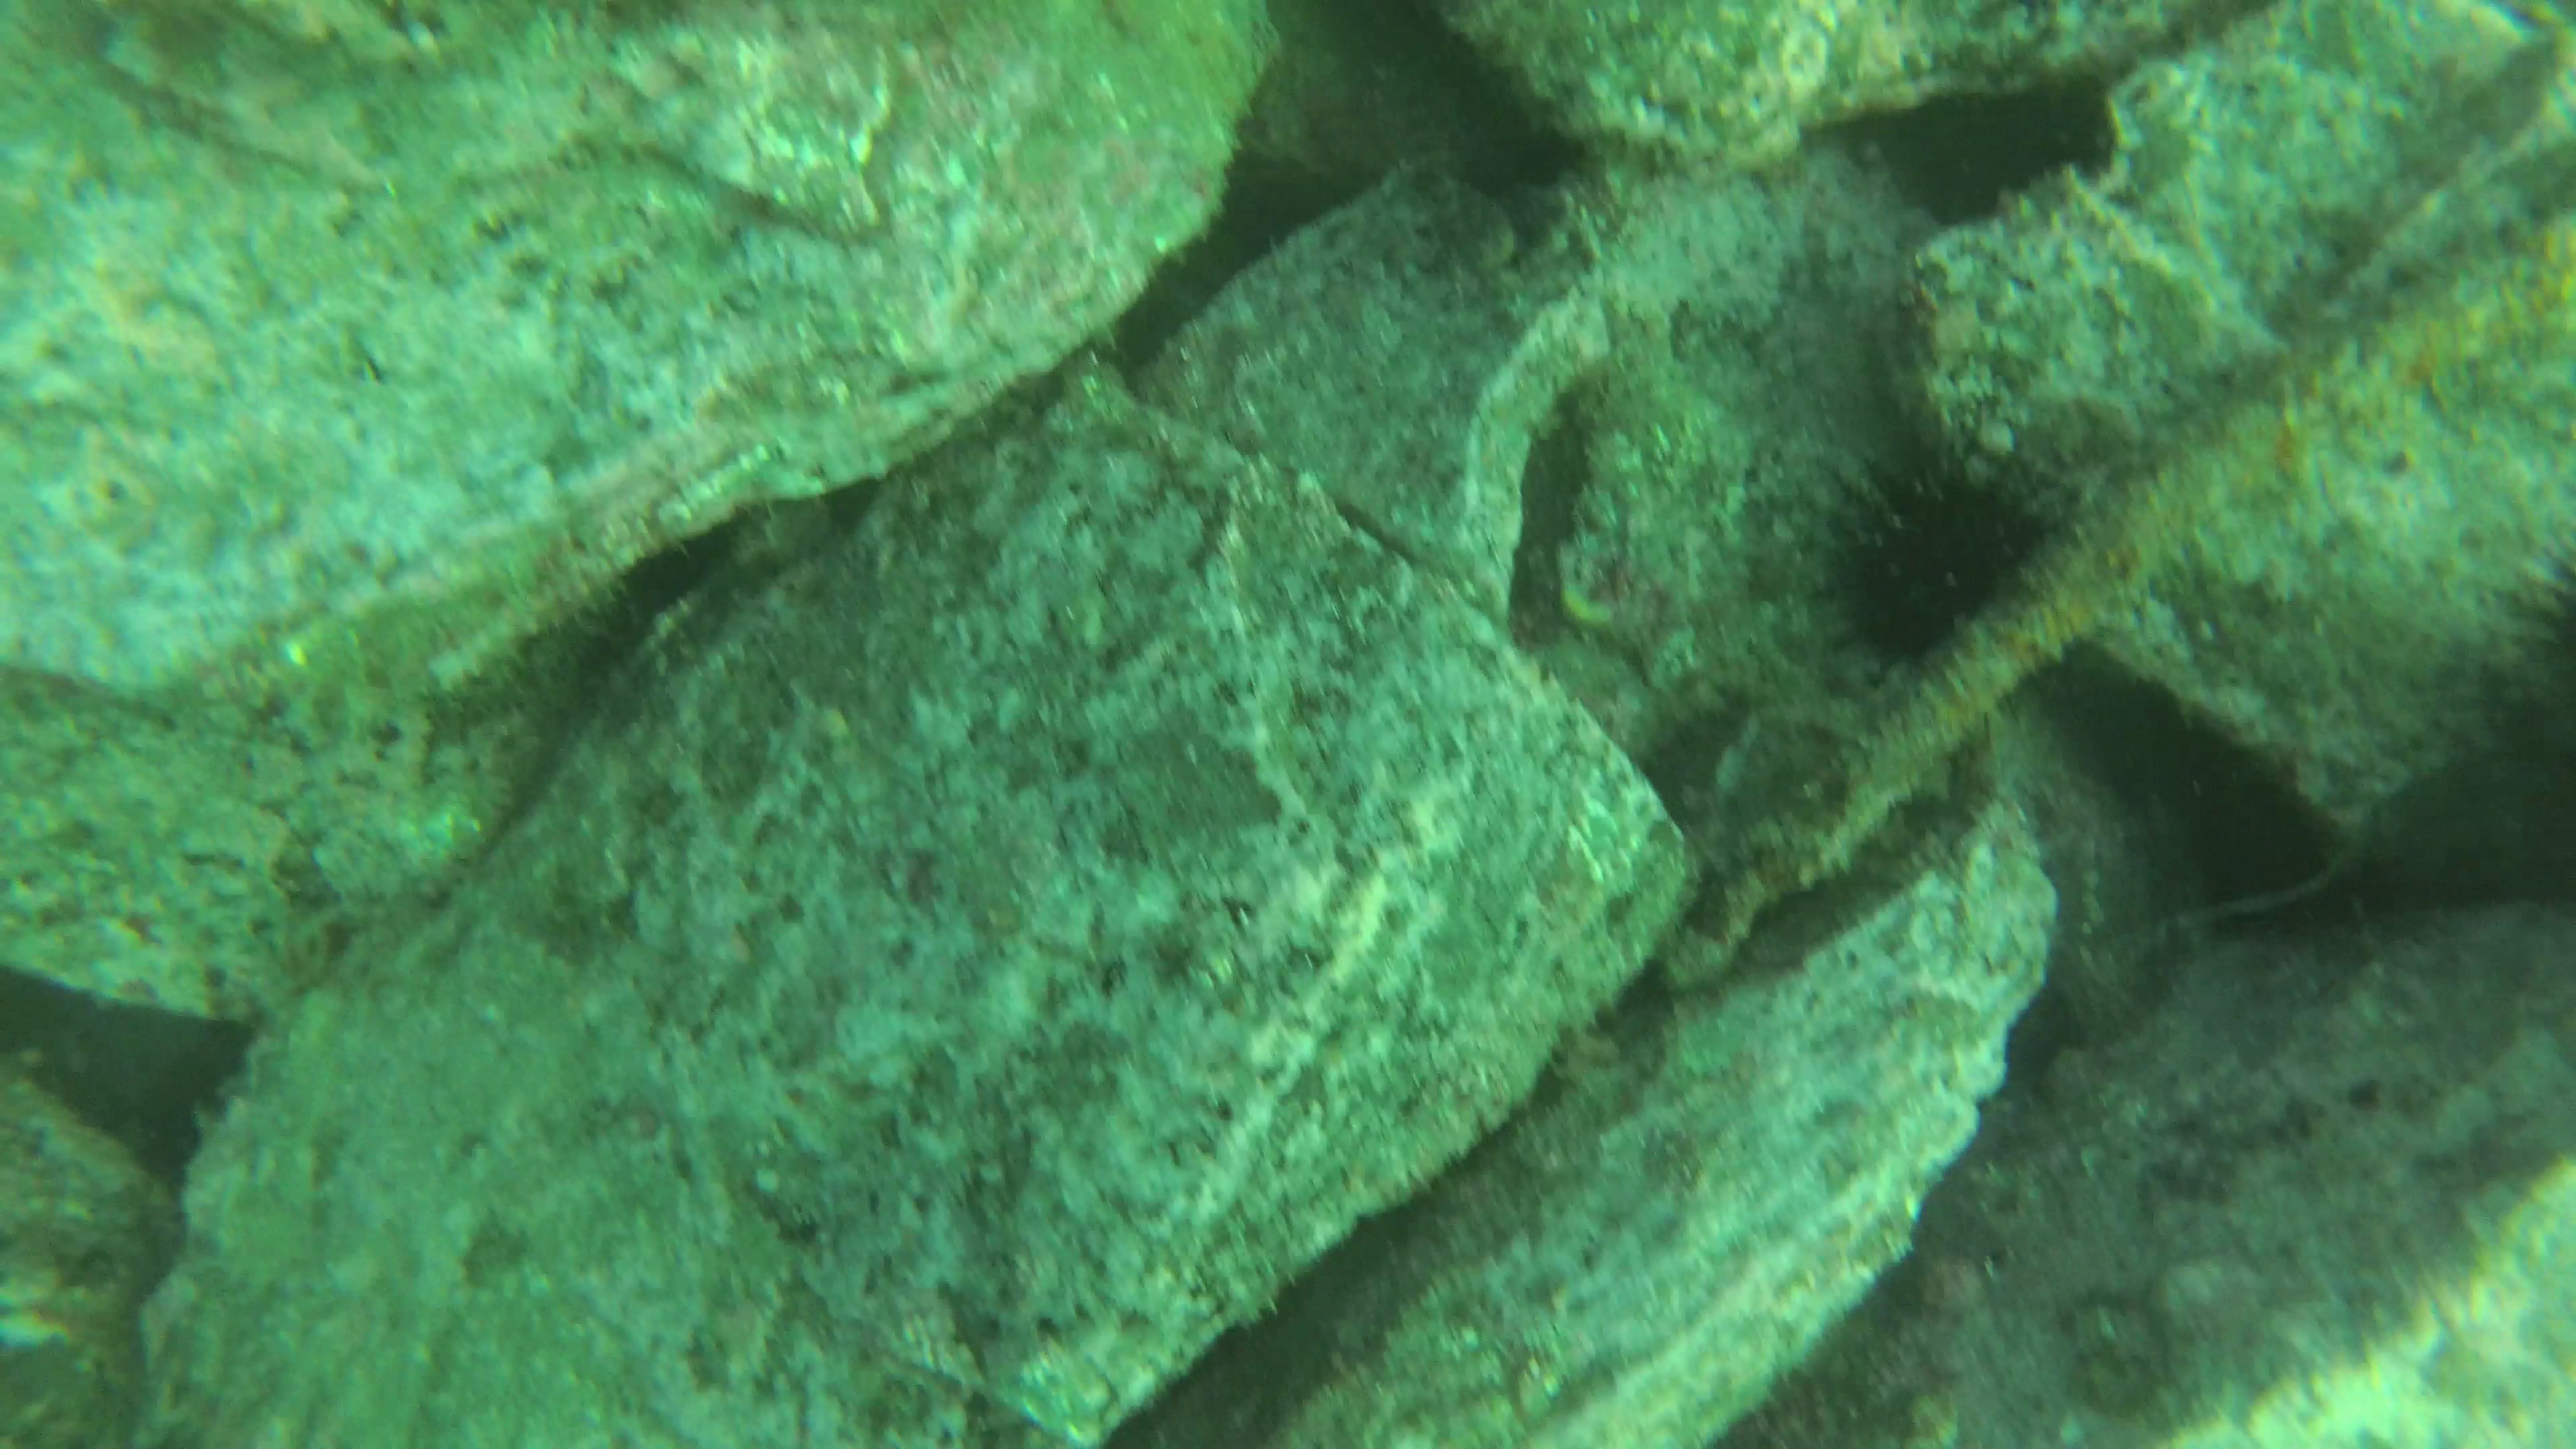echinus: (1824, 449, 2074, 663), (1884, 83, 2118, 234)
